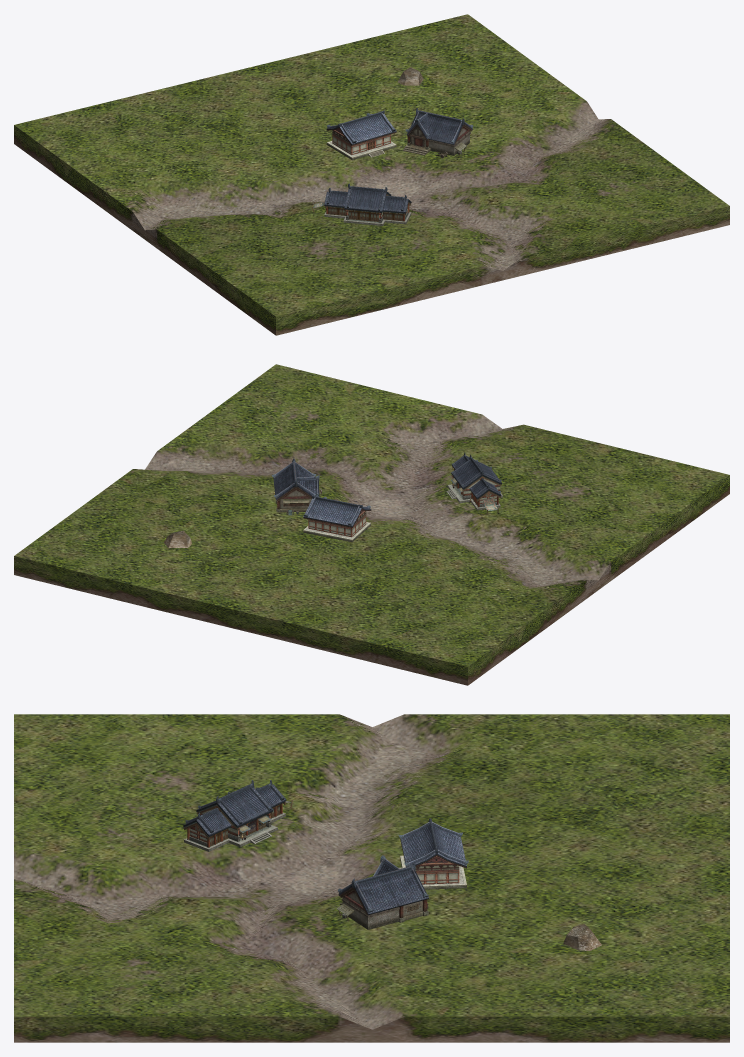
Rendered from map005.FBX.
The picture shows the model from 3 angles, top to bottom: view 1: azimuth 30°, elevation 25°; view 2: azimuth 150°, elevation 25°; view 3: azimuth 270°, elevation 25°; orthographic projection. The views are drawn at different scales.
Parts seen in each view (by area): view 1: map005, house195, house196, house194; view 2: map005, house194, house195, house196; view 3: map005, house195, house196, house194, Box041.
Boxes of the visible parts, x1=… form: map005: x1=14, y1=14, x2=729, y2=335; house195: x1=311, y1=183, x2=411, y2=225; house196: x1=403, y1=108, x2=473, y2=158; house194: x1=326, y1=110, x2=396, y2=160; map005: x1=14, y1=364, x2=729, y2=685; house194: x1=303, y1=495, x2=371, y2=542; house195: x1=446, y1=452, x2=502, y2=514; house196: x1=271, y1=458, x2=321, y2=515; map005: x1=14, y1=714, x2=729, y2=1042; house195: x1=183, y1=780, x2=293, y2=851; house196: x1=336, y1=855, x2=428, y2=929; house194: x1=398, y1=818, x2=468, y2=889; Box041: x1=563, y1=924, x2=601, y2=950.
Bounding box in the file's own units: 100 × 10.73 × 100.
